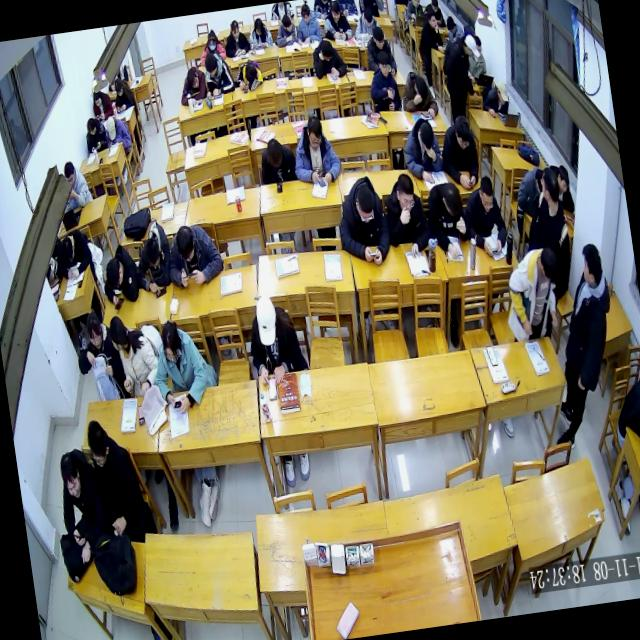bow: (129, 217, 177, 299), (96, 240, 144, 313), (398, 67, 440, 121), (56, 224, 95, 282), (310, 34, 348, 82), (414, 10, 446, 59), (176, 64, 209, 108), (550, 162, 576, 216), (196, 28, 228, 68), (233, 58, 266, 94), (351, 6, 382, 44), (274, 12, 298, 48)
down: (252, 292, 282, 349), (85, 418, 114, 470), (158, 320, 186, 368), (392, 172, 418, 218), (538, 245, 564, 288), (174, 223, 198, 266), (353, 184, 378, 225), (440, 181, 464, 220), (476, 174, 498, 216), (84, 311, 106, 353), (106, 314, 129, 354), (452, 113, 474, 153), (102, 256, 126, 291), (304, 115, 326, 153), (264, 135, 286, 171), (143, 235, 164, 272), (416, 120, 436, 154), (556, 163, 572, 196), (318, 37, 336, 64), (412, 76, 430, 103), (62, 159, 78, 188), (61, 236, 77, 264), (371, 25, 387, 53), (185, 66, 202, 90), (104, 114, 119, 140), (243, 62, 259, 84), (496, 82, 510, 107), (362, 7, 376, 30), (328, 0, 342, 22), (230, 18, 242, 41), (300, 3, 312, 26), (85, 116, 98, 137), (446, 15, 458, 37), (206, 30, 218, 51), (253, 17, 265, 38), (92, 90, 104, 108), (429, 0, 440, 14)
lookup: (58, 450, 84, 502), (374, 49, 392, 79), (426, 10, 438, 30), (411, 0, 422, 9)
sit: (531, 240, 631, 450), (84, 412, 158, 552), (498, 244, 572, 350), (53, 444, 112, 568), (146, 314, 212, 418), (242, 288, 310, 387), (331, 172, 395, 271), (70, 307, 130, 406), (517, 164, 574, 260), (105, 308, 163, 401), (380, 170, 432, 264), (162, 217, 226, 293), (458, 172, 512, 262), (288, 112, 345, 192), (438, 32, 488, 122), (423, 179, 472, 261), (436, 112, 484, 193), (398, 114, 446, 188), (364, 48, 403, 115), (256, 132, 300, 188), (610, 374, 640, 447), (363, 22, 398, 77), (200, 48, 236, 100), (59, 157, 94, 210), (320, 0, 354, 44), (292, 2, 324, 48), (102, 112, 133, 156), (221, 17, 252, 60), (82, 114, 110, 158), (480, 82, 512, 120), (245, 15, 274, 51), (111, 75, 137, 114), (90, 86, 115, 122), (424, 0, 447, 30), (445, 14, 466, 46), (402, 0, 425, 23)
